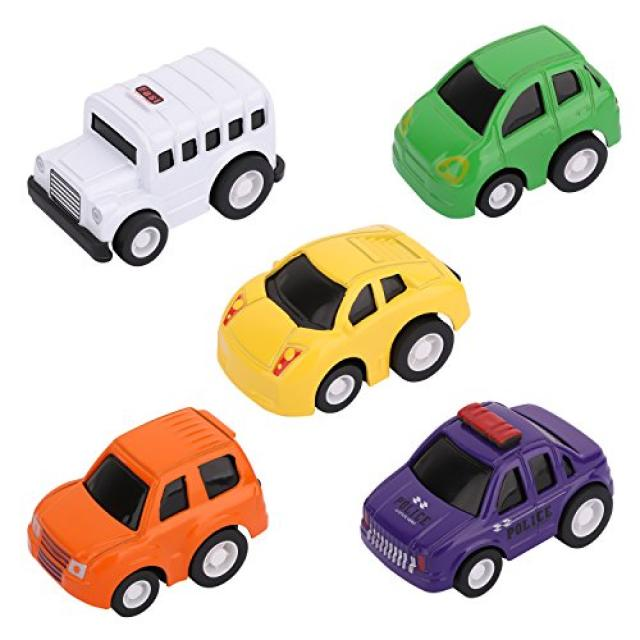Car: (26, 45, 286, 265), (25, 406, 268, 617), (359, 399, 613, 598), (215, 223, 470, 416), (390, 23, 621, 219)
